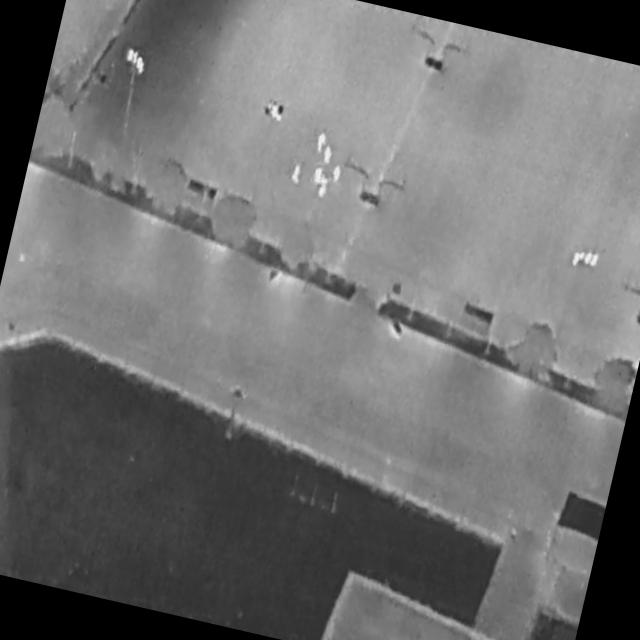person: (317, 174, 331, 200), (316, 132, 329, 156), (322, 145, 335, 167), (291, 164, 304, 186), (312, 166, 325, 188), (332, 164, 344, 184)
